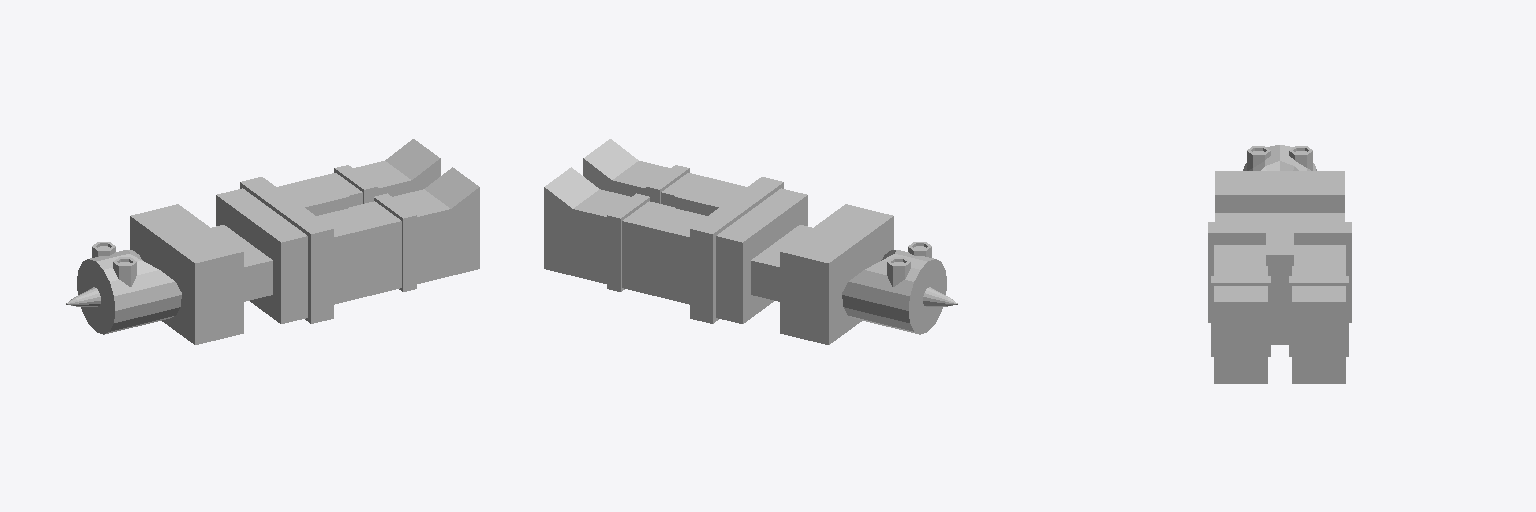
The model's file is robot.obj.
3 renders of one model, left to right at view 1: azimuth 30°, elevation 25°; view 2: azimuth 150°, elevation 25°; view 3: azimuth 270°, elevation 25°, orthographic.
Visible parts, largest first — view 1: Cube; view 2: Cube; view 3: Cube.
Part boxes in pixels (bbox=[...]): Cube: bbox=[66, 139, 479, 344]; Cube: bbox=[544, 139, 957, 344]; Cube: bbox=[1208, 145, 1351, 383].
Bounding box in the file's own units: 36.17 × 8.49 × 11.76.